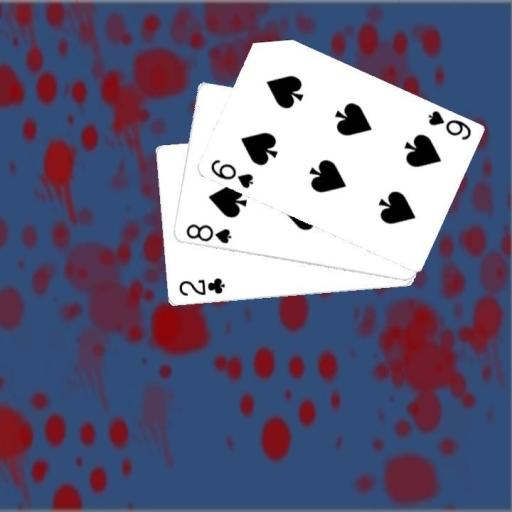2C: (175, 275, 226, 298)
6S: (207, 156, 255, 190), (425, 108, 472, 142)
8S: (182, 221, 233, 245)
